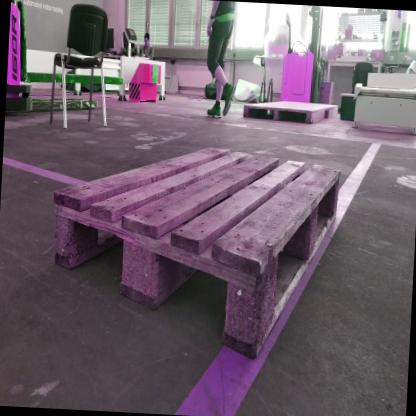BoxFace: (49, 143, 340, 369), (242, 96, 340, 131)
